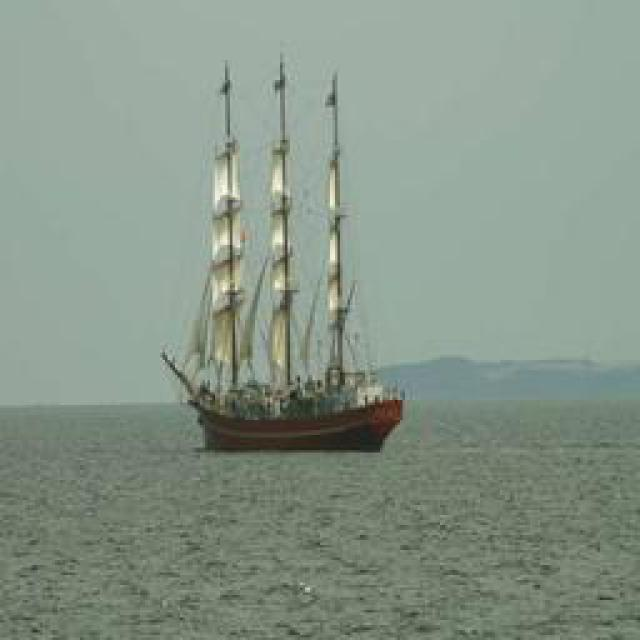Ship: (172, 40, 402, 455)
